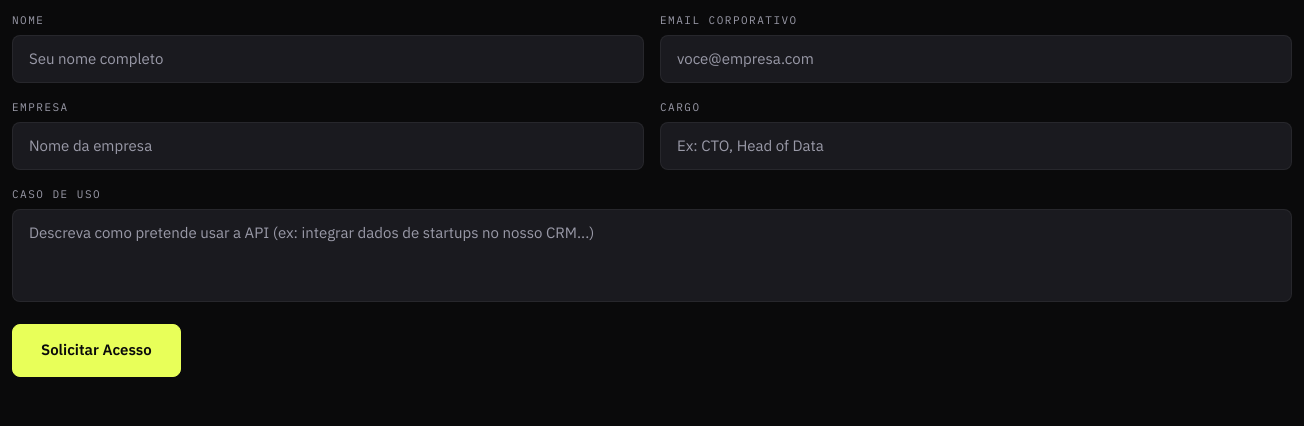
it: ApiAccessForm › shows validation error for invalid email
Step 1. Type "Ana" into the field labelled "Nome" → (328, 59), box 12,34 -> 644,83
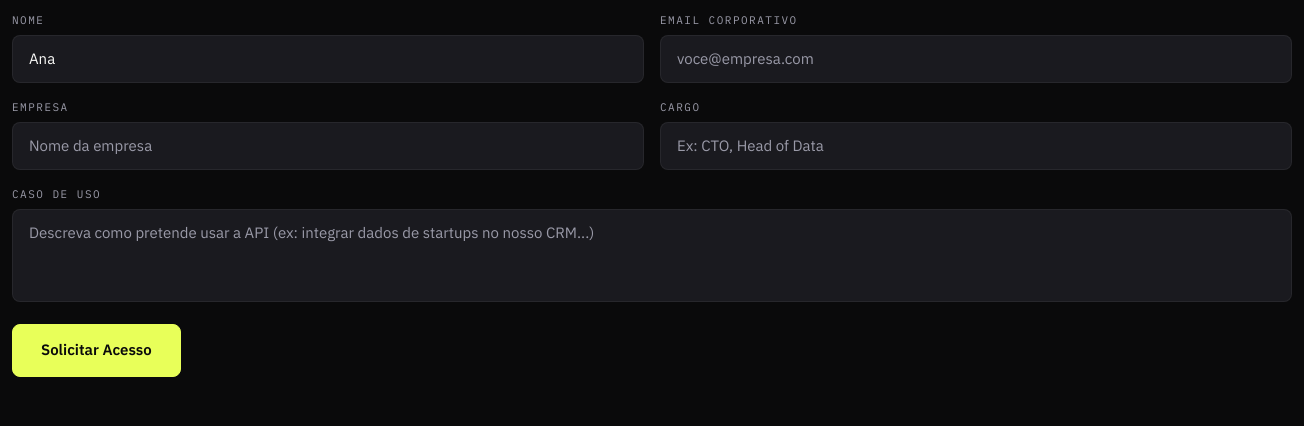
Step 2. Type "invalid" into the field labelled "Email corporativo" → (976, 59), box 660,34 -> 1292,83
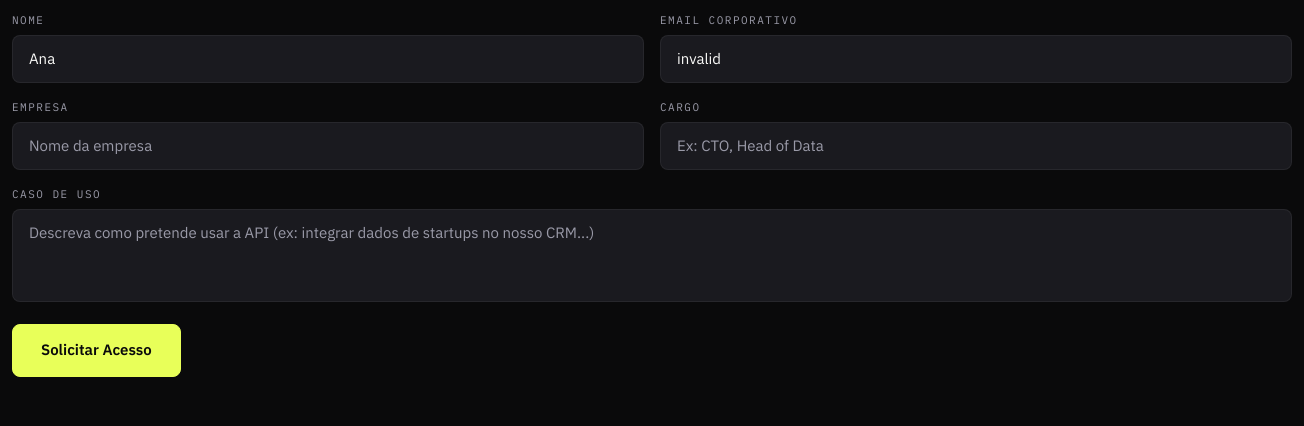
Step 3. Type "TechCo" into the field labelled "Empresa" → (328, 146), box 12,122 -> 644,170
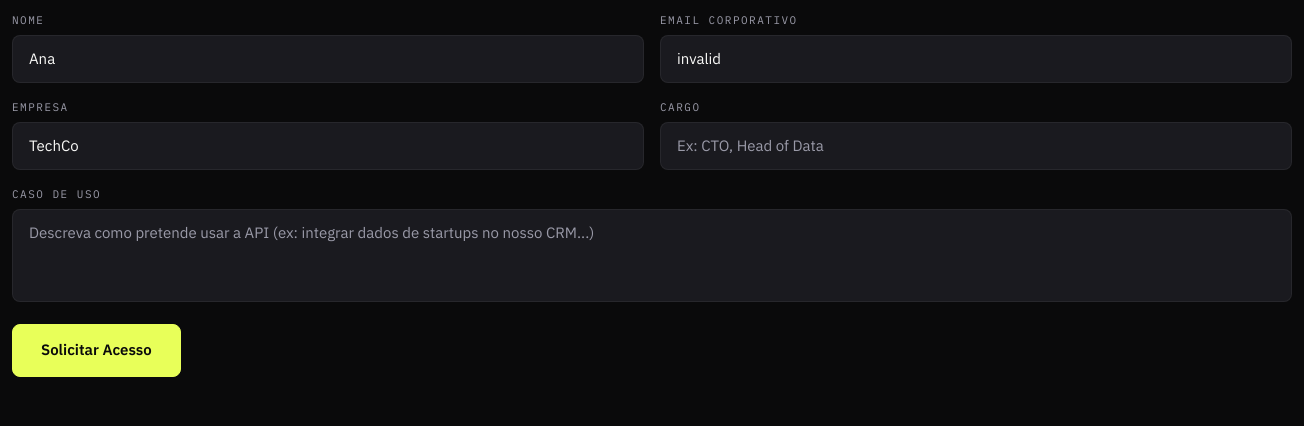
Step 4. Type "CTO" into the field labelled "Cargo" → (976, 146), box 660,122 -> 1292,170
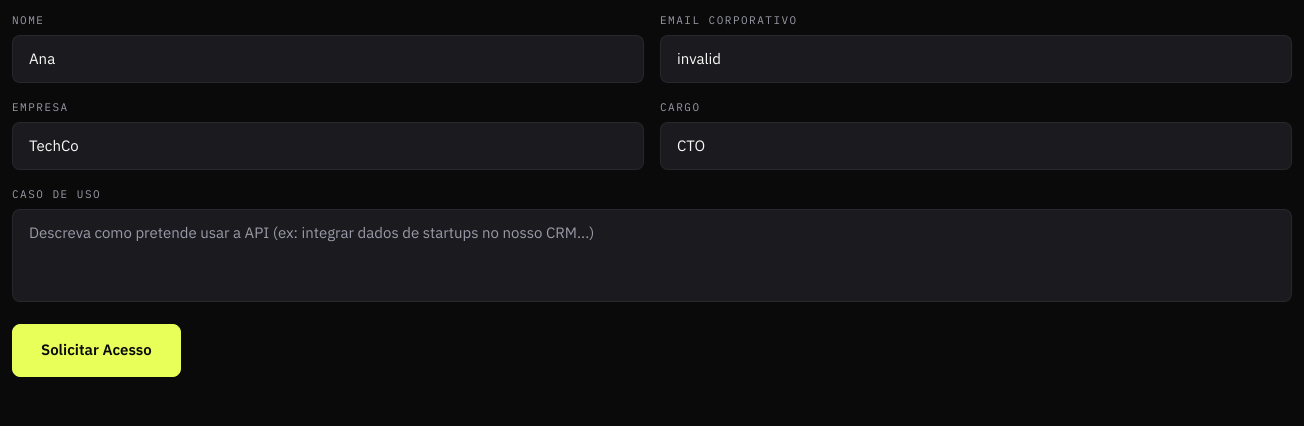
Step 5. Replace the text in the text box labelled "Caso de uso" with "Integrar dados no dashboard" → (652, 255), box 12,208 -> 1292,302
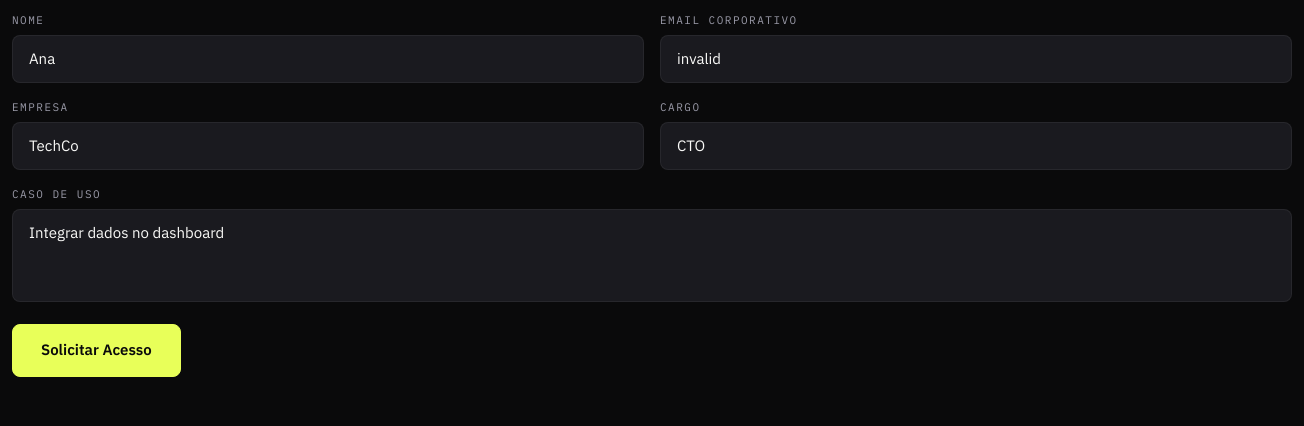
Step 6. Submit the form "Solicitar Acesso"
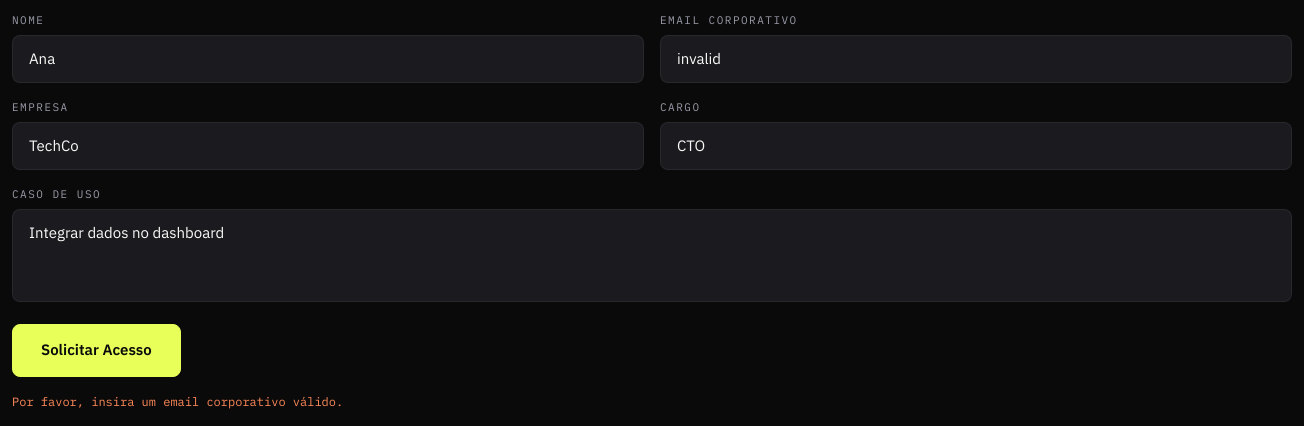
Result: the text "Por favor, insira um email corporativo válido." is shown at 12,394 -> 343,408
